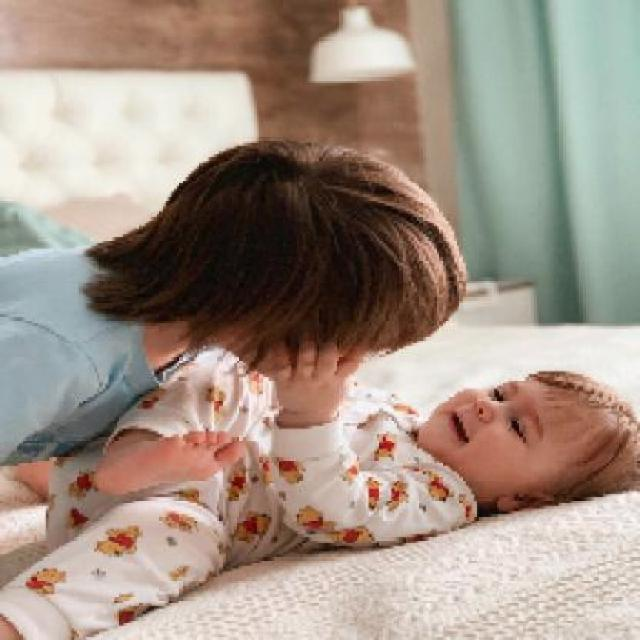child: (3, 352, 640, 638)
